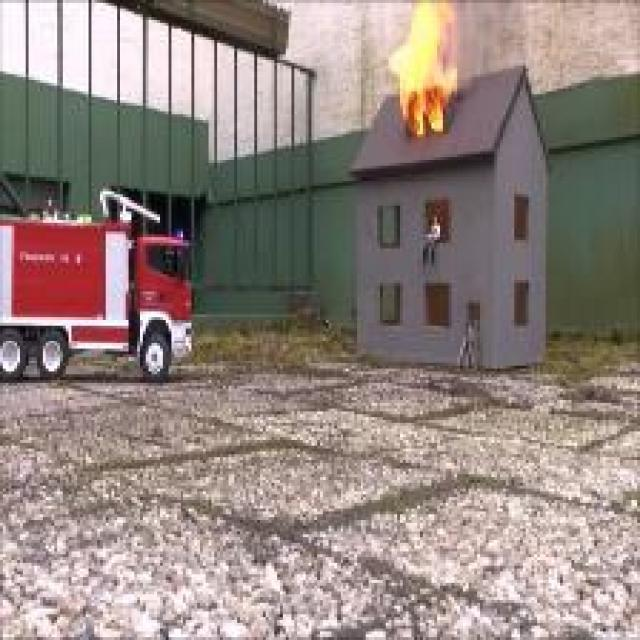Fire: (392, 2, 457, 134)
